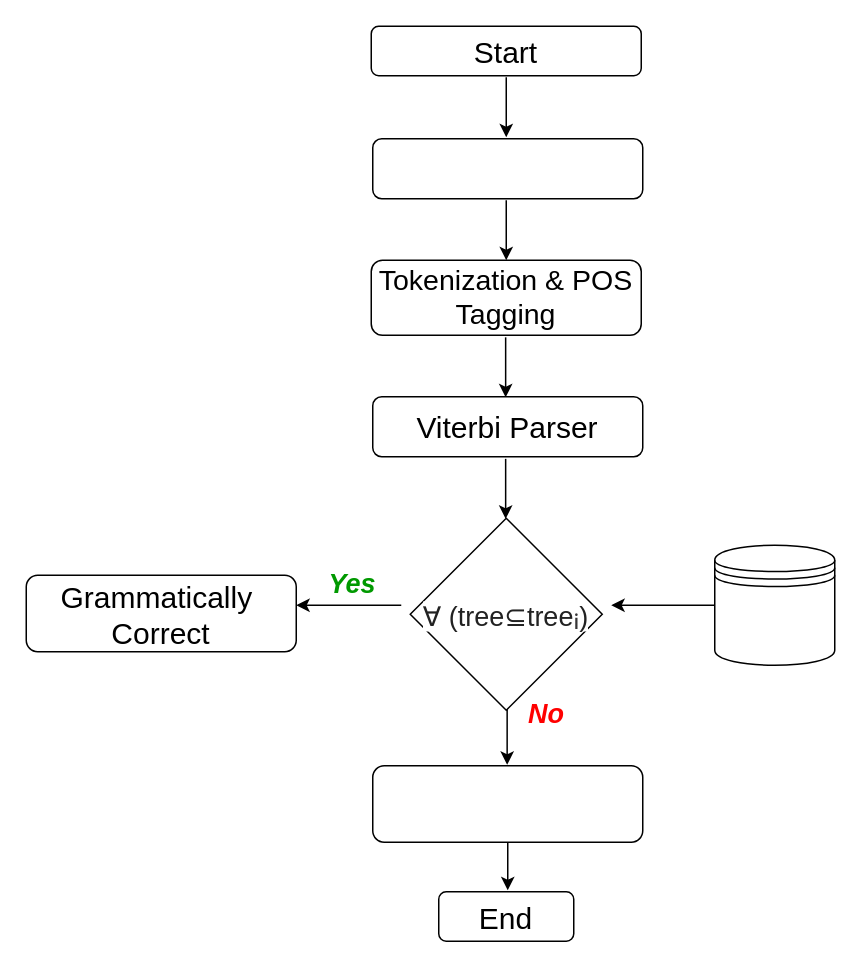
Some shapes in this 861 by 968 pixel diagram are drawn without their labels. Each missing label, with the centre of its shape:
Grammatically Incorrect: (507,803)
Pashto Sentences: (507,168)
Tree Bank: (774,604)
